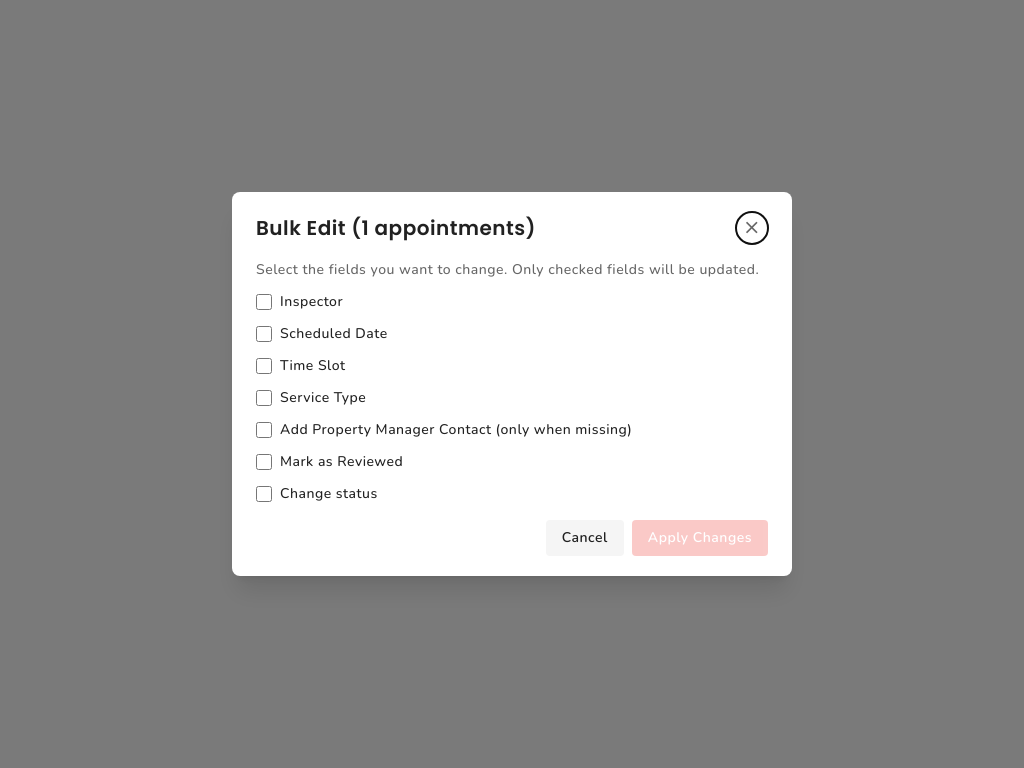
Test case: BulkEditModal › Change status › asks for a reason only when the chosen transition requires one
Step 1. Click the checkbox labelled "Change status" → (264, 494), box [256,486,272,502]
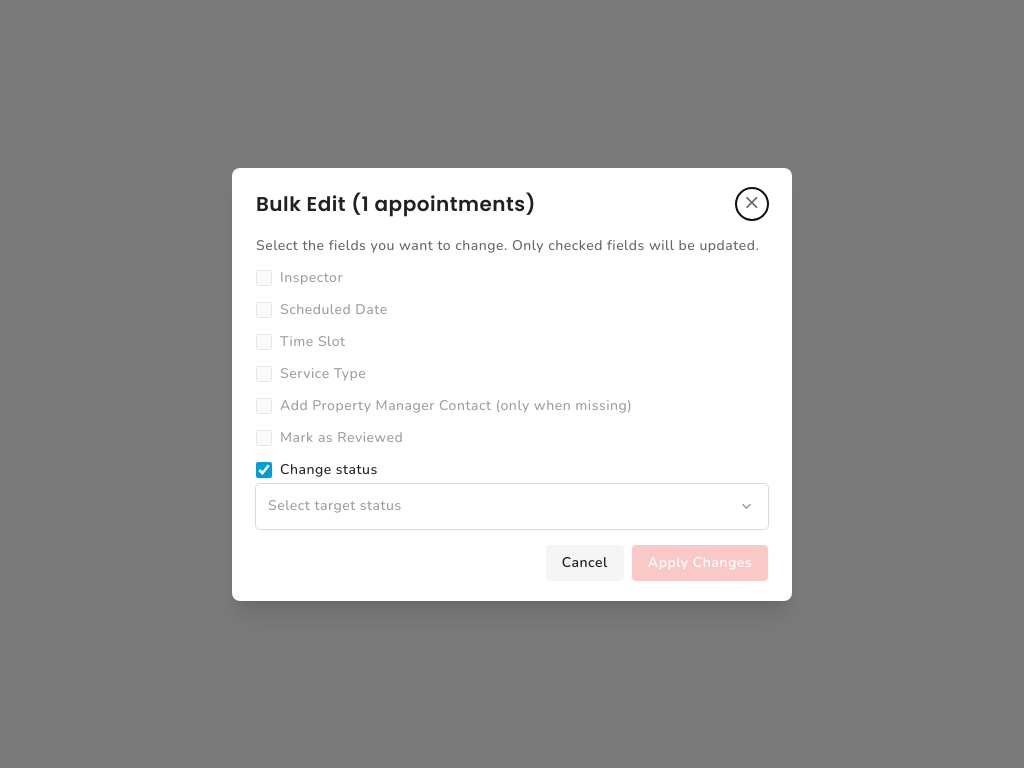
Step 2. Click the button with aria-label "Set target status" → (335, 506), box [256,484,768,528]
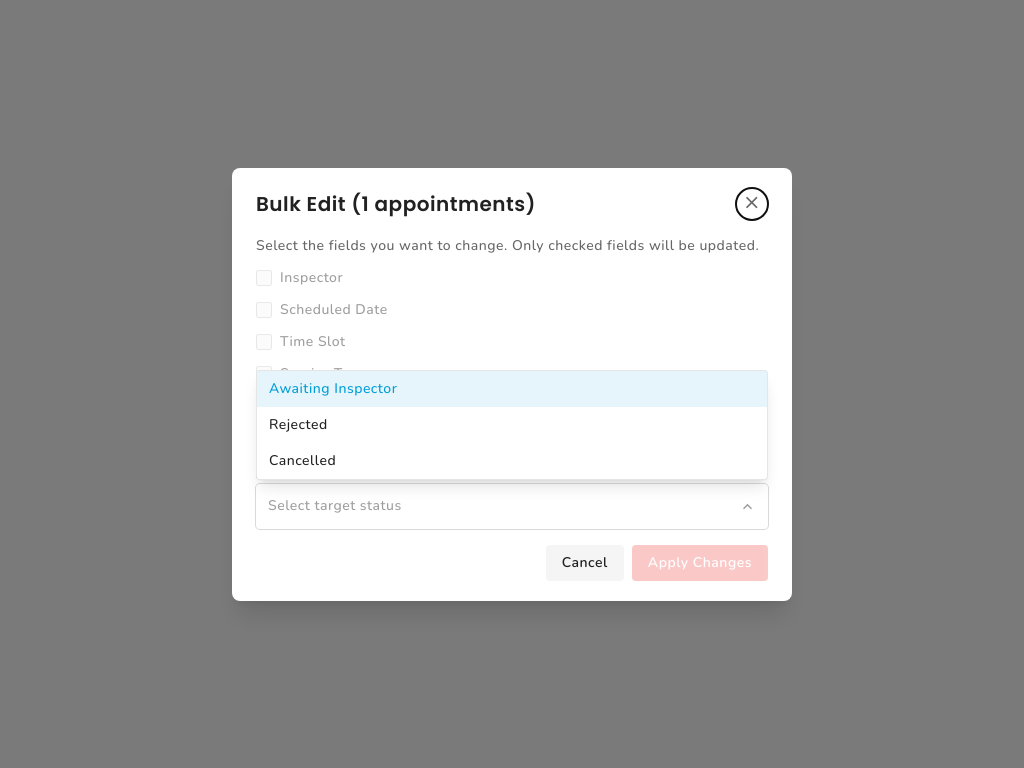
Step 3. Click the option "Awaiting Inspector" → (333, 388), box [257,370,767,406]
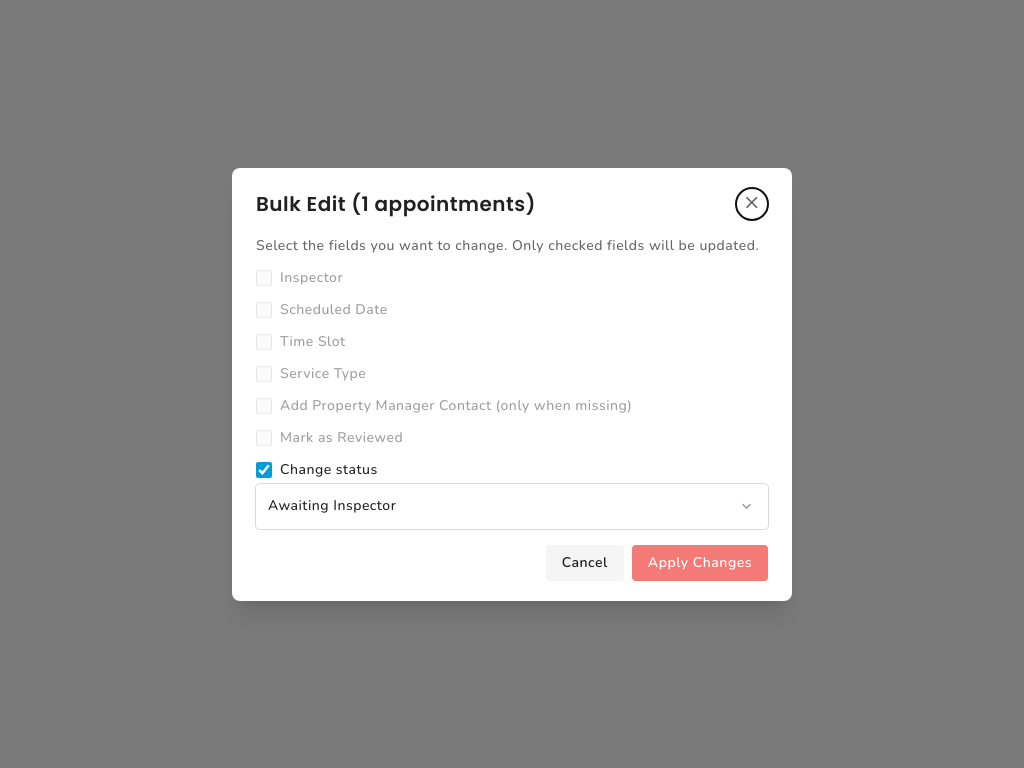
Step 4. Click the button with aria-label "Set target status" → (332, 506), box [256,484,768,528]
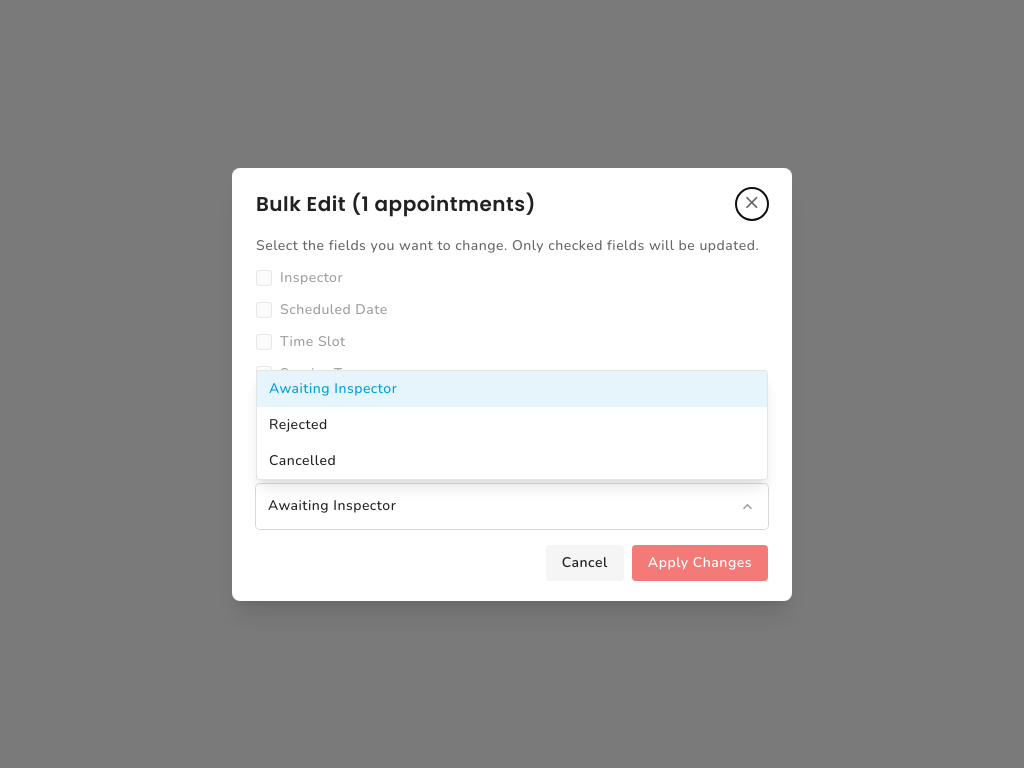
Step 5. Click the option "Cancelled" → (303, 460), box [269,450,336,470]
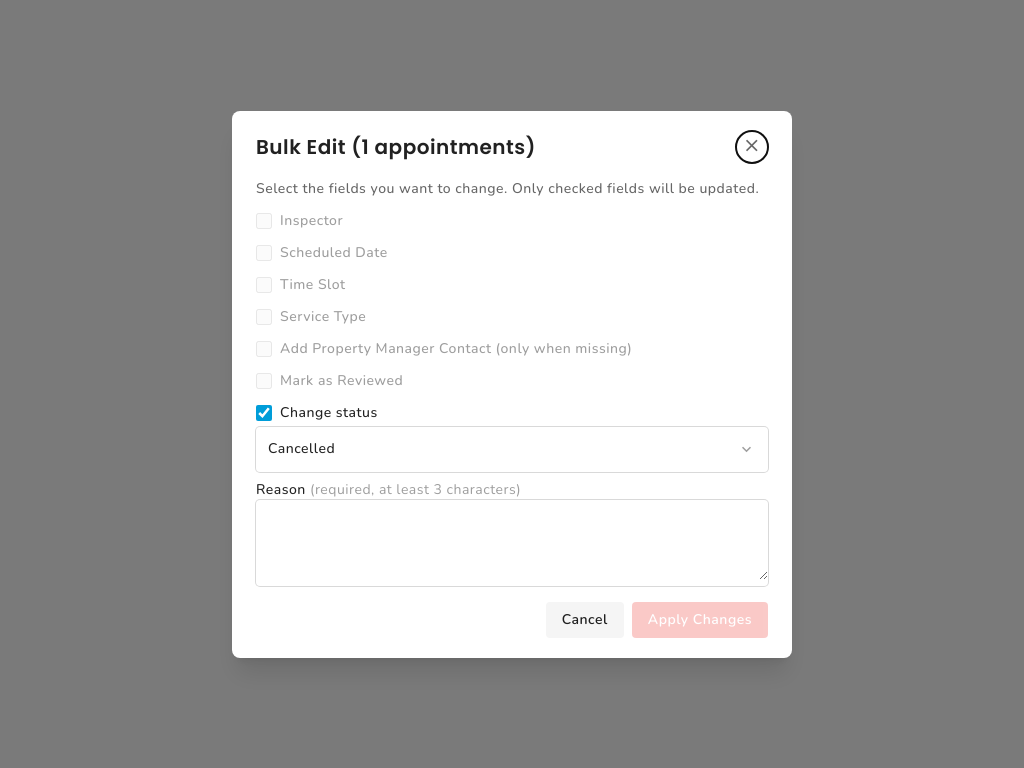
Check: the text box named "Status change reason" is shown, box [256,500,768,580]
